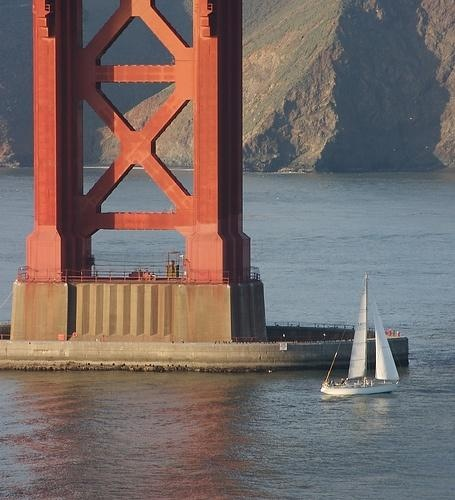boat: (320, 274, 401, 397)
